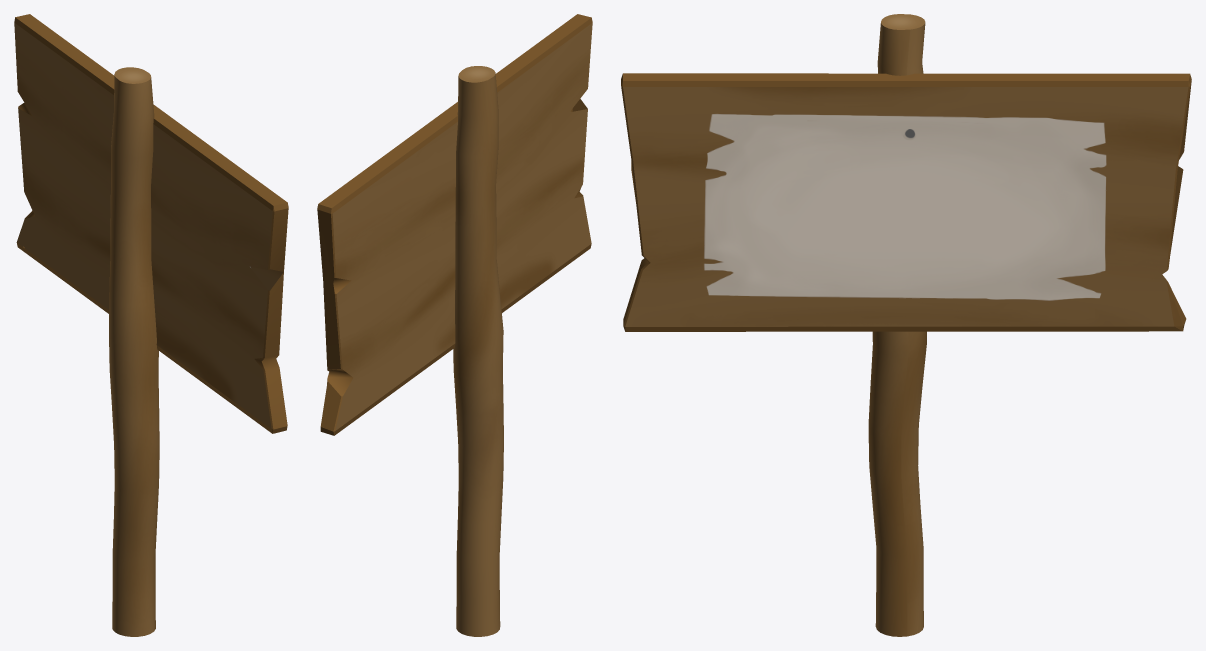
Rendered from Pancarte.fbx.
The picture shows the model from 3 angles, left to right: view 1: azimuth 30°, elevation 25°; view 2: azimuth 150°, elevation 25°; view 3: azimuth 270°, elevation 25°; orthographic projection. The views are drawn at different scales.
Parts seen in each view (by area): view 1: pCylinder2; view 2: pCylinder2; view 3: pCylinder2.
Part boxes in pixels (x1=…): pCylinder2: x1=14, y1=14, x2=288, y2=636; pCylinder2: x1=317, y1=14, x2=592, y2=636; pCylinder2: x1=621, y1=14, x2=1191, y2=636.
Bounding box in the file's own units: 0.0885 × 0.9251 × 0.7911.
